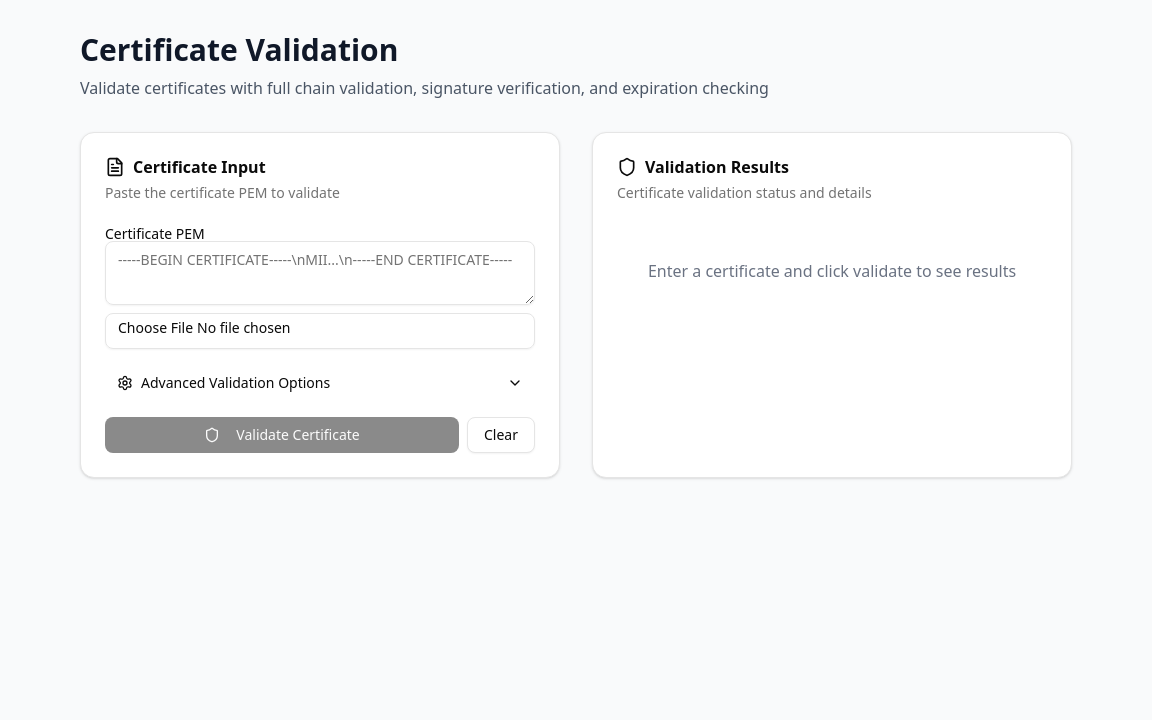
Test: Certificate Validation Page › Rendering and Initial State › should show advanced options when opened
This screenshot has width=1152, height=720.
Step 1. Click the button "Advanced Validation Options" → (320, 383), box [105,365,535,401]
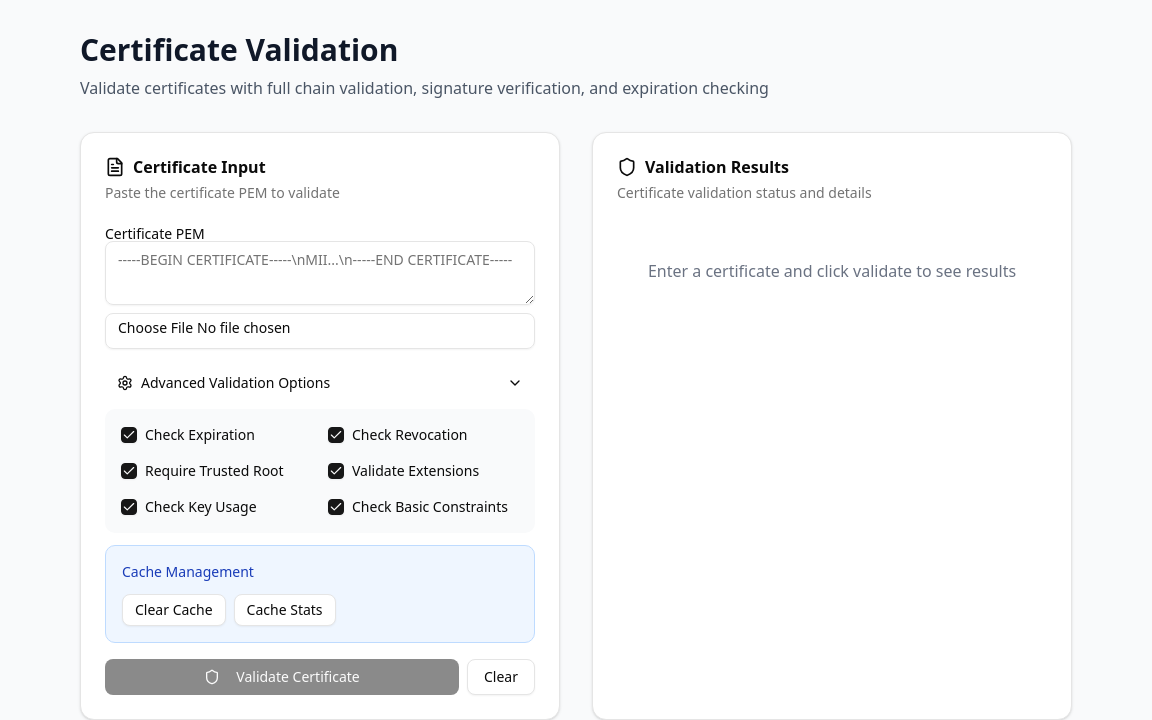
Expected: the checkbox named "Check Expiration" next to "Check Expiration" is shown, [121,427,137,443]
Expected: the checkbox named "Check Revocation" next to "Check Revocation" is shown, [328,427,344,443]
Expected: the button "Clear Cache" is shown, [122,594,226,626]
